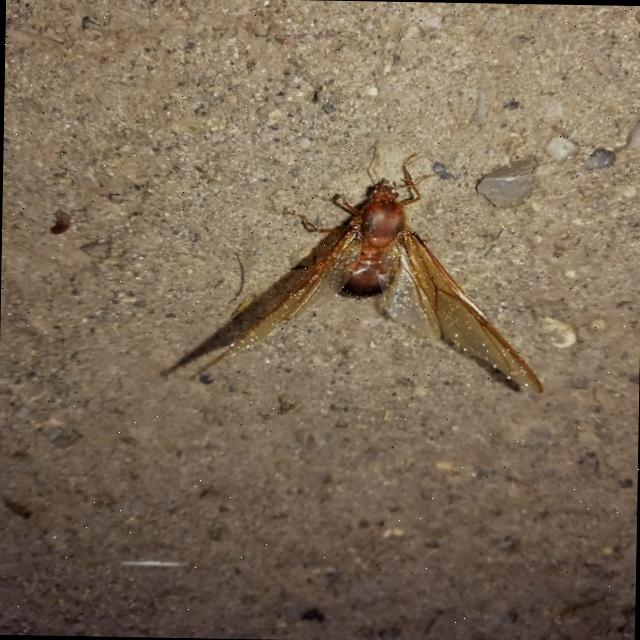Alive-Male-Alate: (190, 142, 548, 394)
